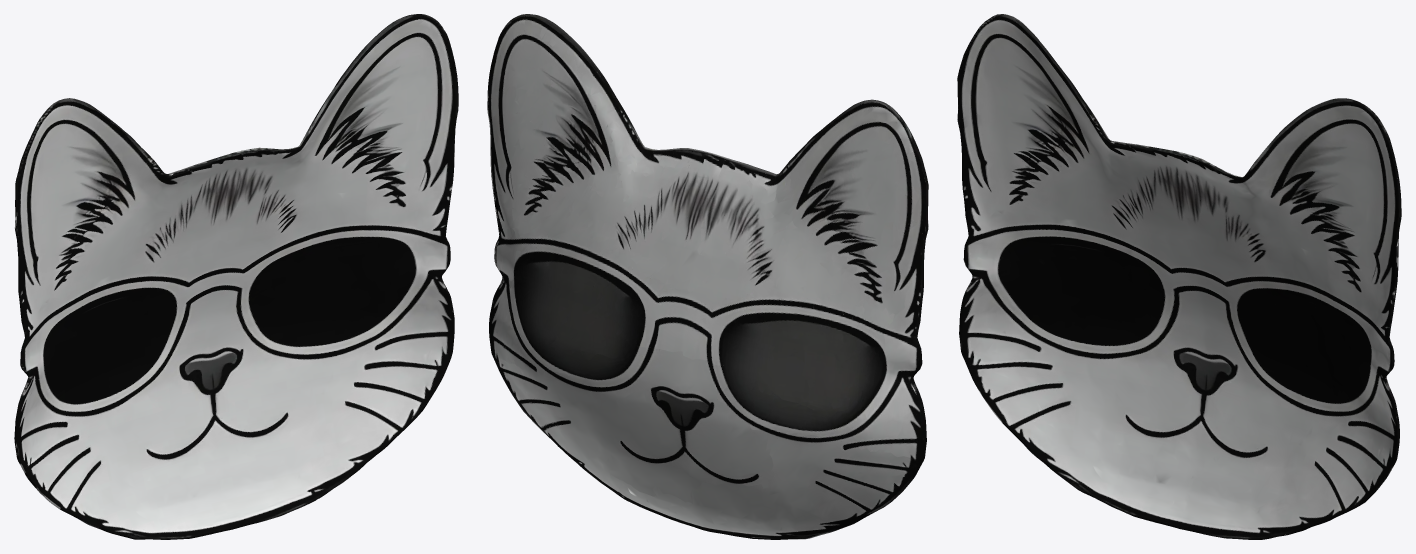
The model's file is texture.glb.
The picture shows the model from 3 angles, left to right: view 1: azimuth 30°, elevation 25°; view 2: azimuth 150°, elevation 25°; view 3: azimuth 330°, elevation 25°; orthographic projection.
Parts seen in each view (by area): view 1: textured_mesh; view 2: textured_mesh; view 3: textured_mesh.
Boxes of the visible parts, x1,y1,x2,y2 form: textured_mesh: [14, 14, 458, 539]; textured_mesh: [487, 14, 928, 539]; textured_mesh: [957, 14, 1401, 539].
Size of the model in its own units: 1.95 by 1.99 by 0.2293.
1 material, 1 textured.
